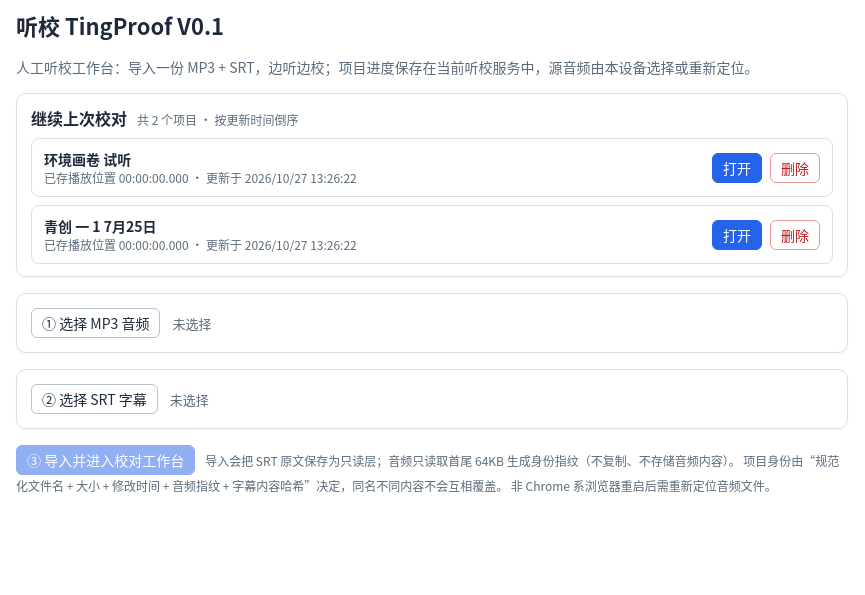
it: ImportScreen 删除历史记录（AC-066） › 409 冲突：不自动重删、条目保留、安全刷新发生；用户再次确认后第二次删除成功
Step 1. Click the button with aria-label "删除 环境画卷 试听" → (795, 168), box x1=770 y1=152 x2=820 y2=182
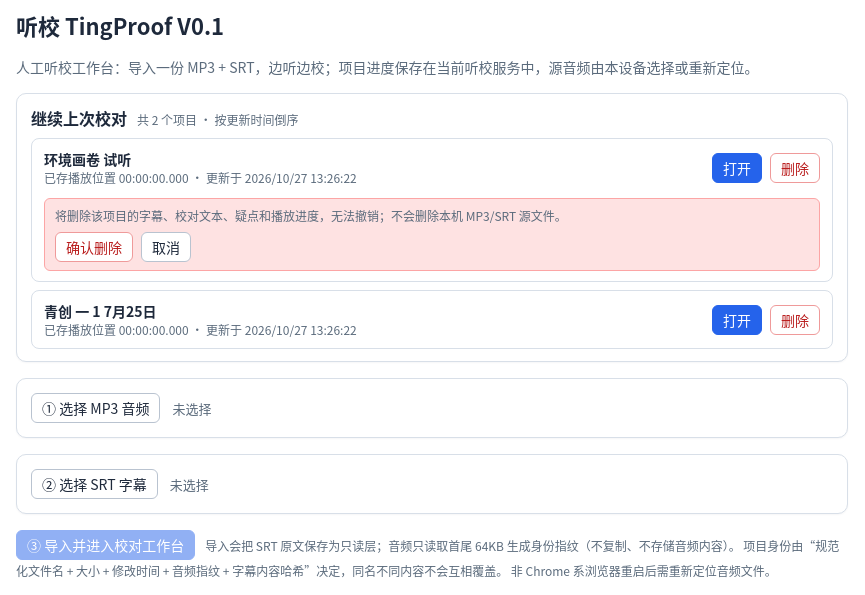
Step 2. Click the button with aria-label "确认删除 环境画卷 试听" → (94, 247), box x1=55 y1=232 x2=133 y2=262
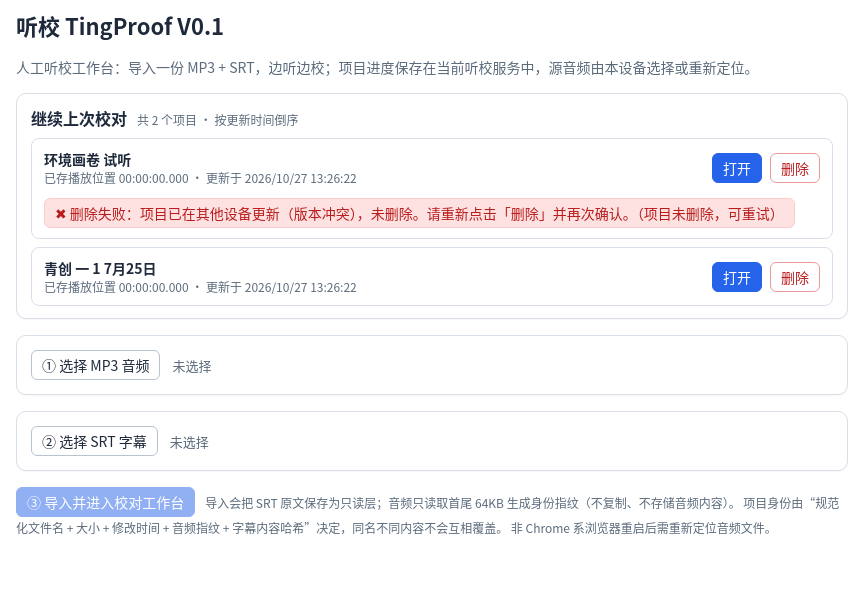
Expected: the message shows "版本冲突", x1=140 y1=203 x2=637 y2=223
Expected: the message shows "未删除", x1=140 y1=203 x2=637 y2=223
Expected: the message shows "再次确认", x1=140 y1=203 x2=637 y2=223
# 用户重新点击「删除」并再次确认 → 第二次 DELETE 成功（真实实现），条目消失。
Step 3. Click the button with aria-label "删除 环境画卷 试听" → (795, 168), box x1=770 y1=152 x2=820 y2=182
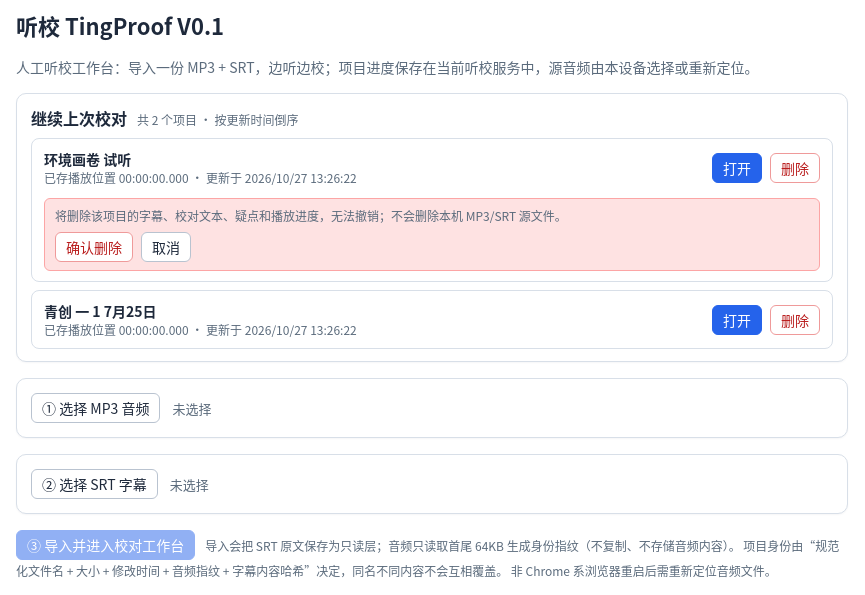
Step 4. Click the button with aria-label "确认删除 环境画卷 试听" → (94, 247), box x1=55 y1=232 x2=133 y2=262
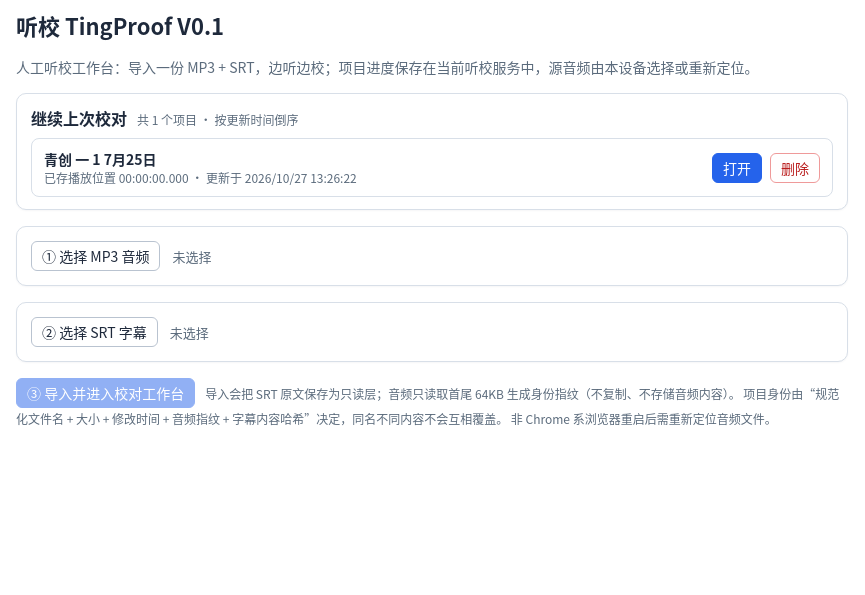
Expected: the number of list items is 1, x1=31 y1=138 x2=833 y2=197
